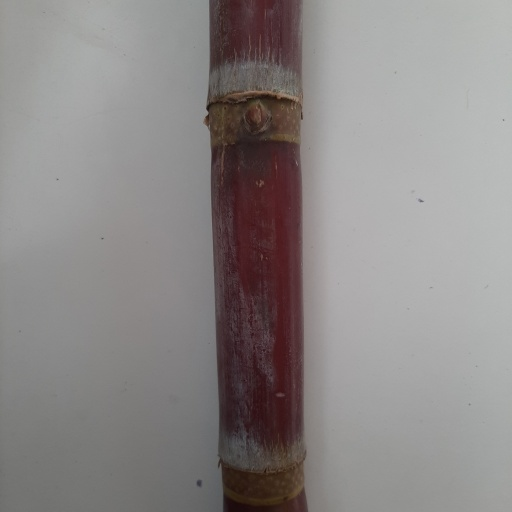Bud: (241, 96, 270, 136)
